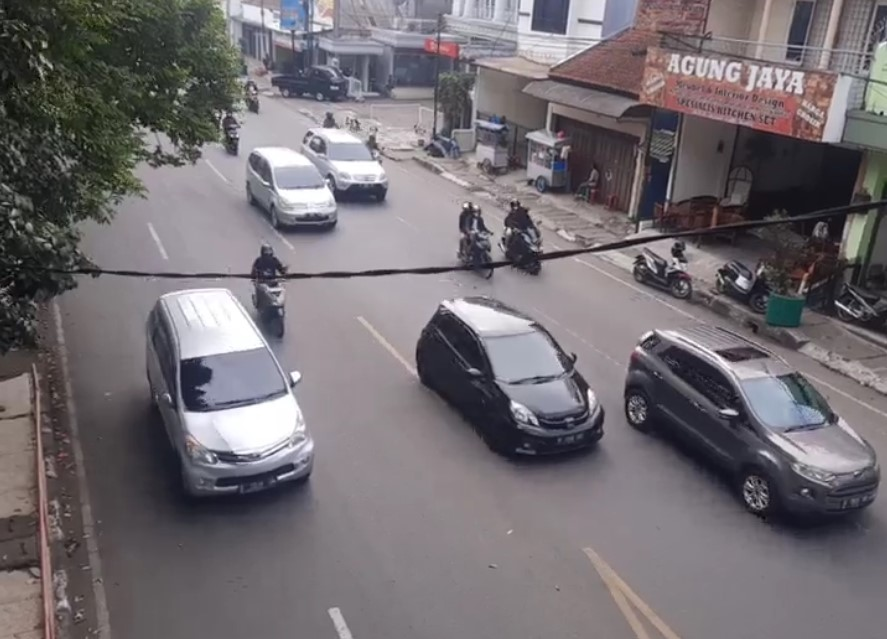mobil: (624, 323, 882, 524), (141, 288, 318, 494), (414, 297, 611, 460), (245, 148, 337, 227), (296, 129, 391, 204)
motor: (246, 247, 294, 334), (448, 200, 499, 281), (501, 201, 546, 271)
